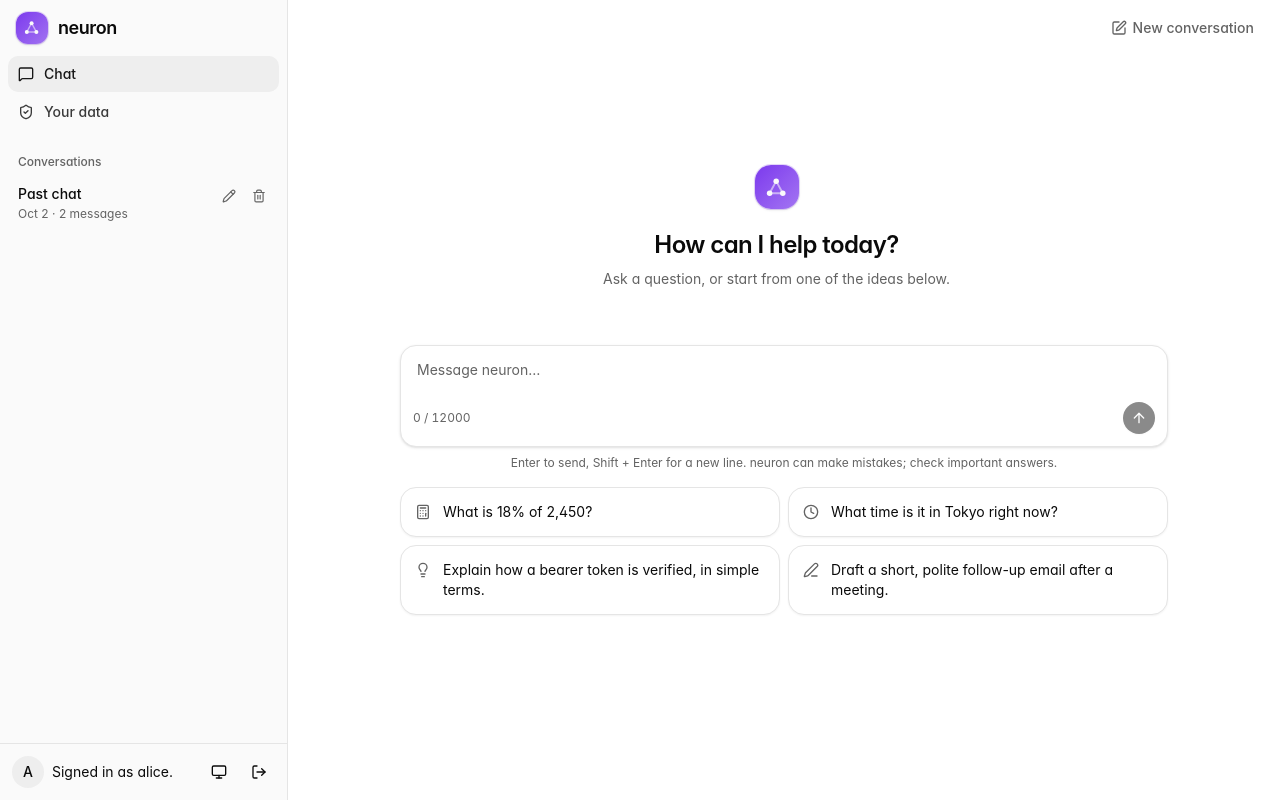
Scenario: opening a conversation › offers no rating on an answer without a run ID
This screenshot has width=1280, height=800.
Click the button with aria-label "Open Past chat" at (50, 194), box [8, 176, 279, 230]
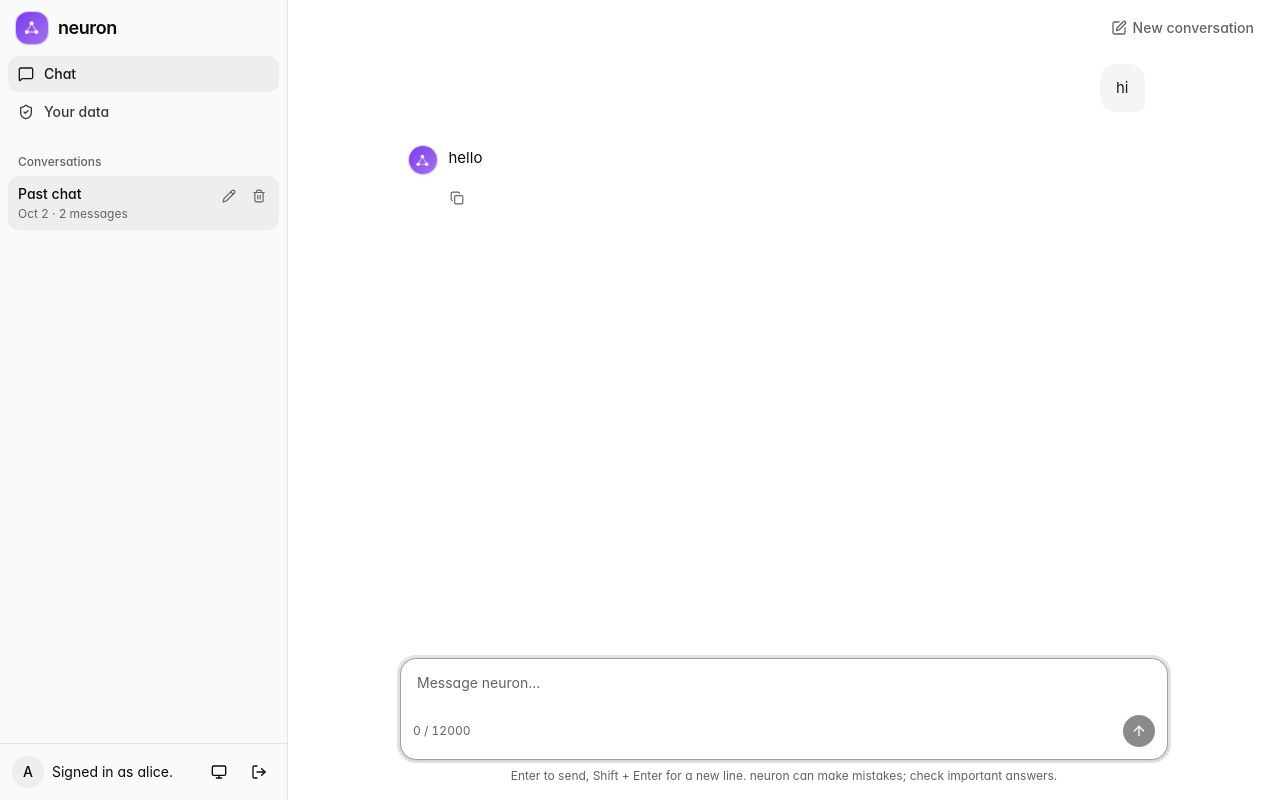
Check: the text "hello" is shown, box [448, 148, 482, 167]
